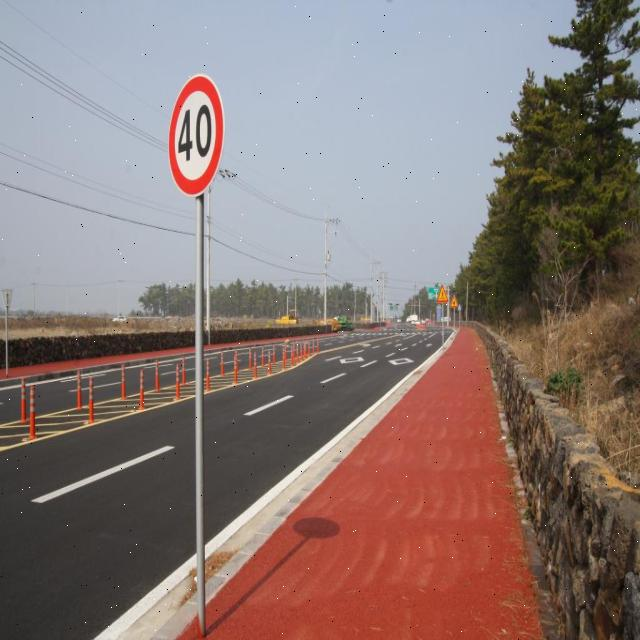speed limit 40: (167, 76, 225, 197)
